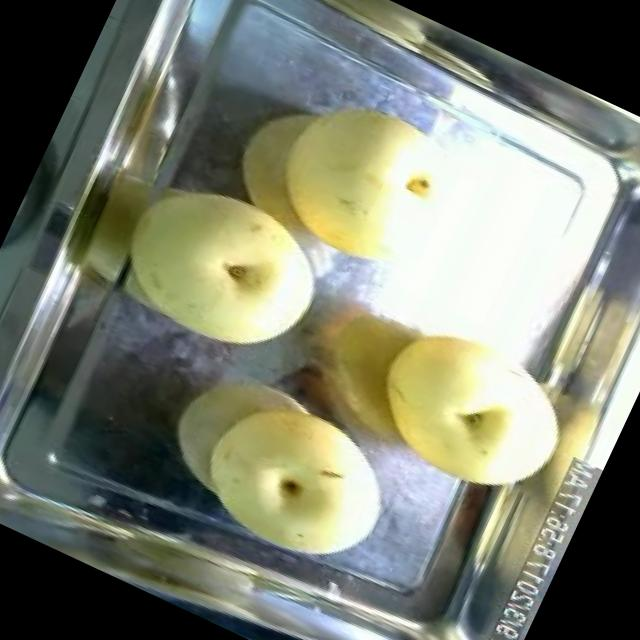Fruit: (137, 342, 420, 596), (96, 151, 351, 388), (346, 296, 596, 526), (252, 70, 464, 286)
